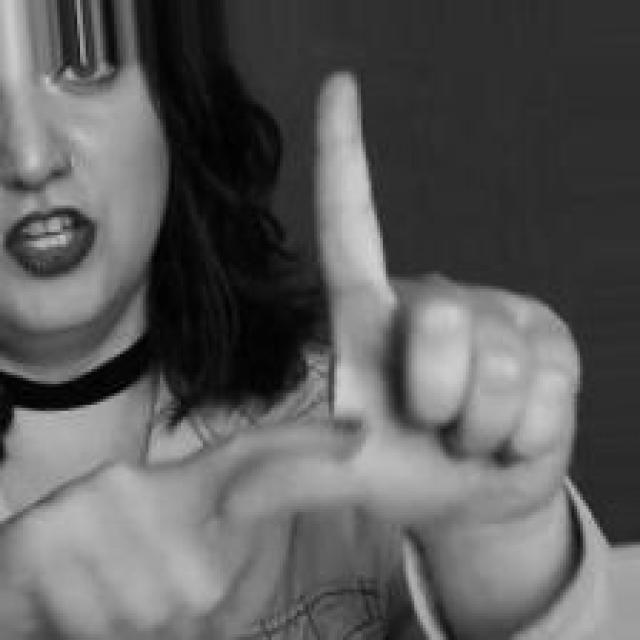J: (0, 56, 591, 637)
